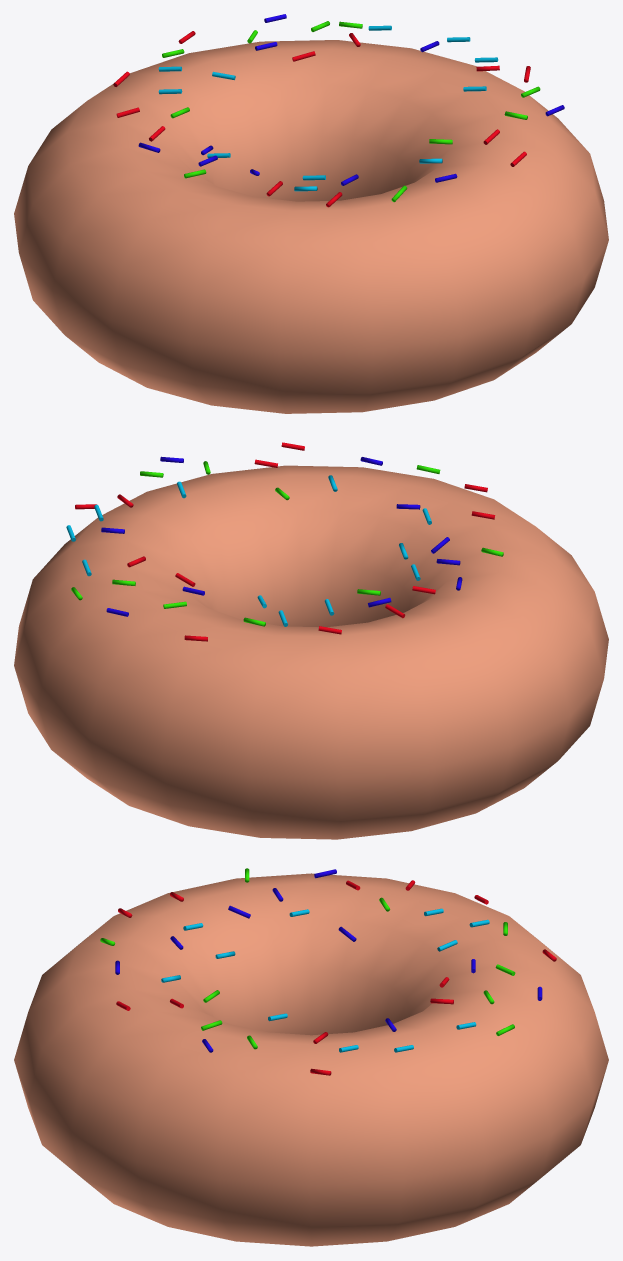
Rendered from donut.glb.
The picture shows the model from 3 angles, top to bottom: view 1: azimuth 30°, elevation 25°; view 2: azimuth 150°, elevation 25°; view 3: azimuth 270°, elevation 25°; orthographic projection.
Parts seen in each view (by area): view 1: Tore; view 2: Tore; view 3: Tore.
Boxes of the visible parts, x1,y1,x2,y2 form: Tore: (14, 40, 608, 413); Tore: (14, 465, 608, 839); Tore: (14, 873, 608, 1246).
Size of the model in its own units: 2.58 by 1.02 by 2.58.
